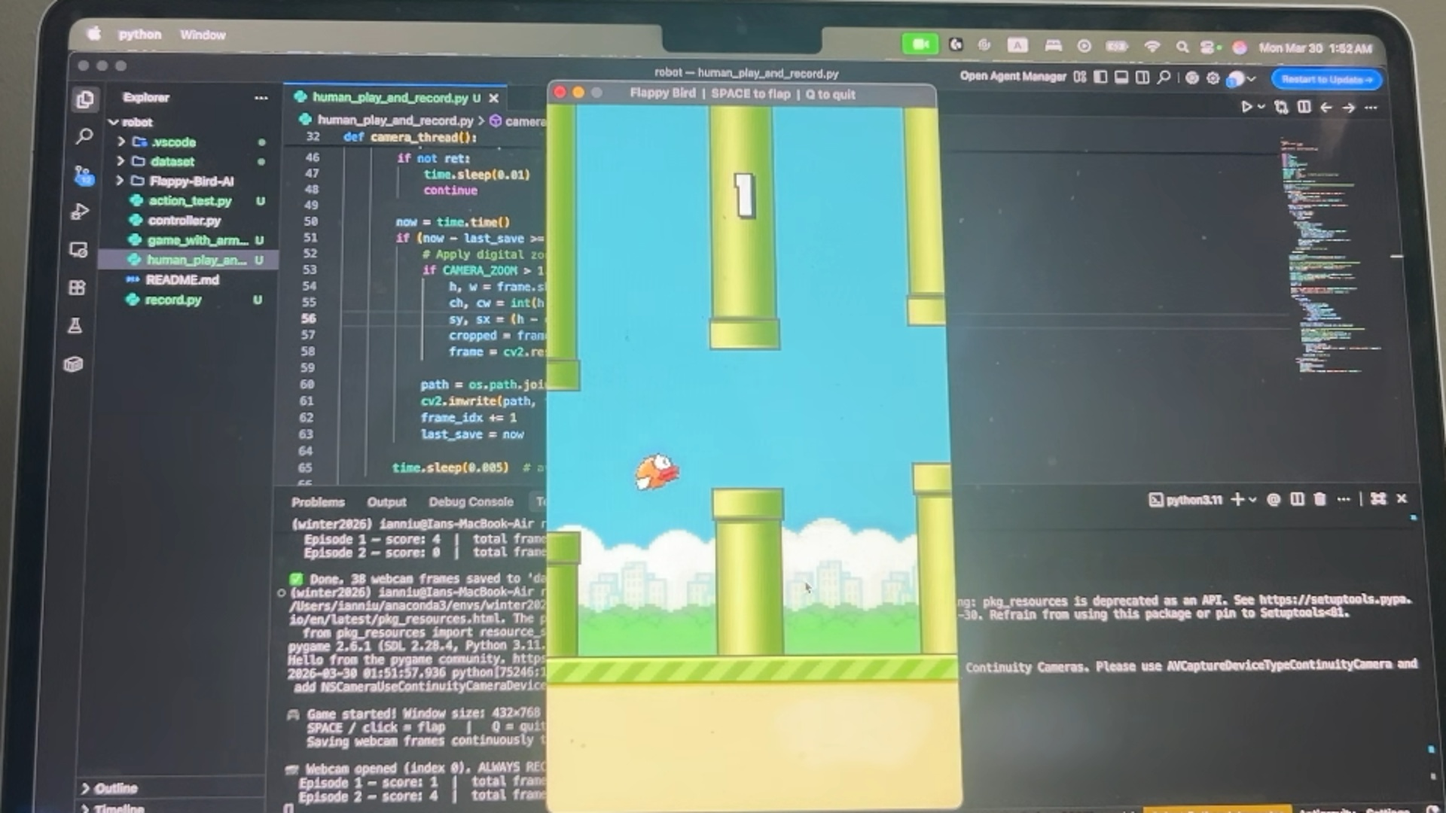bird: (629, 444, 684, 501)
green pipes: (705, 106, 787, 346), (714, 486, 787, 652), (546, 101, 583, 390), (913, 463, 962, 655), (906, 112, 943, 324), (549, 533, 586, 661)
